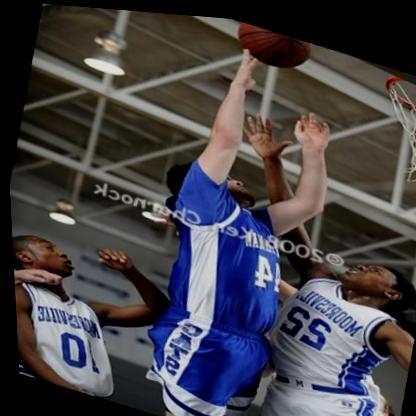basketball: (231, 16, 317, 73)
rim: (378, 64, 416, 116)
